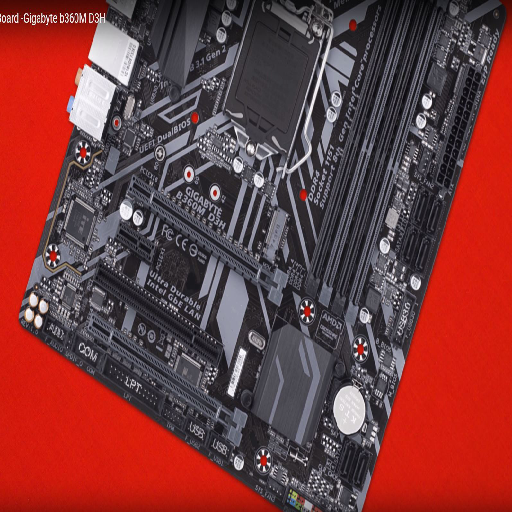CPU: (216, 5, 327, 158)
GPU: (122, 172, 291, 307), (84, 312, 249, 450)
MOTHERBOARD: (15, 4, 504, 510)
RAM: (299, 10, 448, 326)
SSD: (261, 202, 289, 256)
